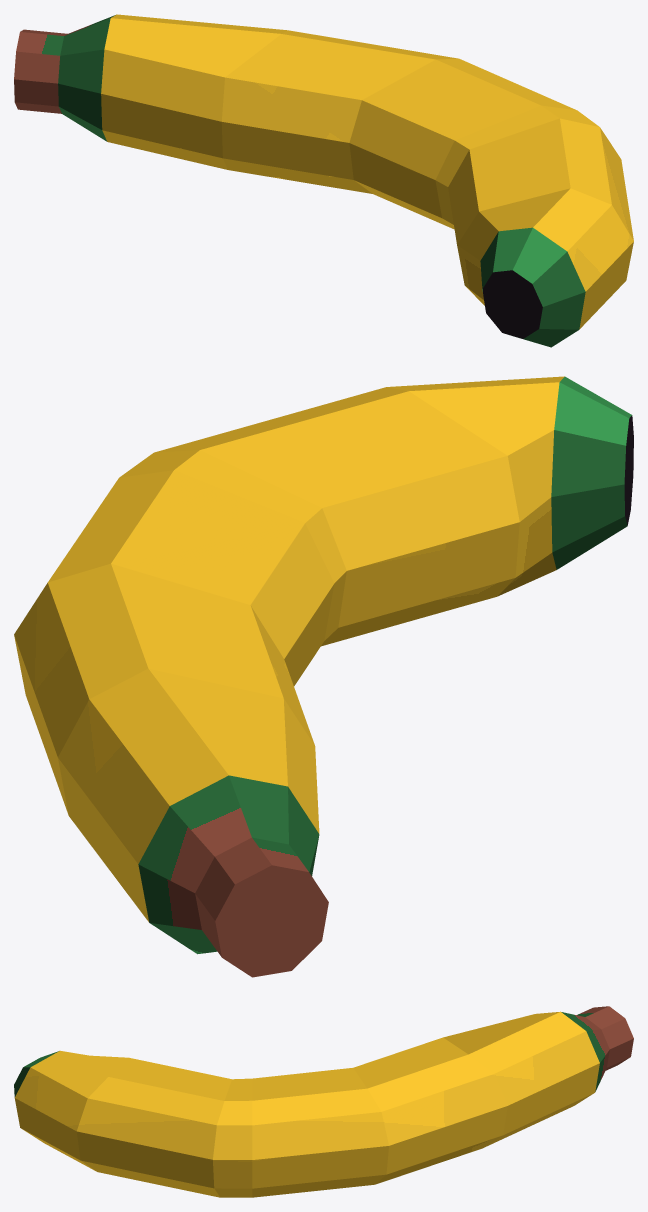
File: Banana Projectile.gltf
3 views of the same model, one above another, from view 1: azimuth 30°, elevation 25°; view 2: azimuth 150°, elevation 25°; view 3: azimuth 270°, elevation 25° (orthographic). The views are drawn at different scales.
Visible parts, largest first — view 1: body; view 2: body; view 3: body.
Boxes of the visible parts, bbox=[...] form: body: bbox=[14, 14, 633, 347]; body: bbox=[14, 376, 633, 977]; body: bbox=[14, 1006, 633, 1197].
Bounding box in the file's own units: 0.3681 × 0.1088 × 0.6828.
Materials: 1 (1 with a texture image).
